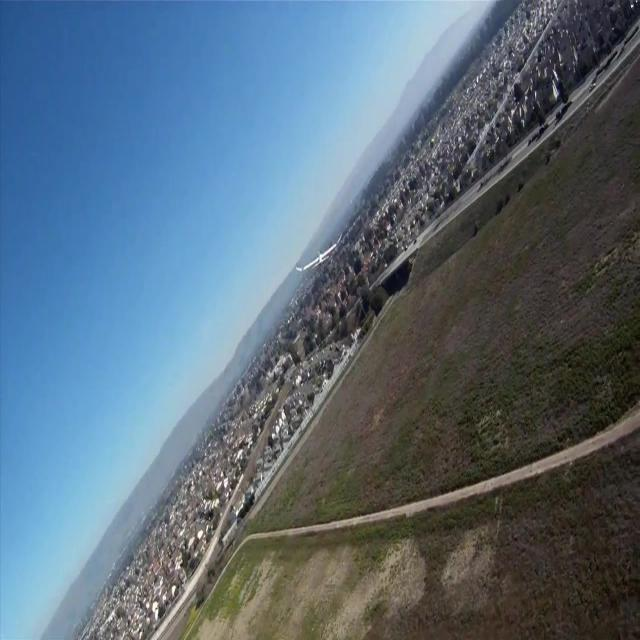iha: (295, 233, 342, 272)
